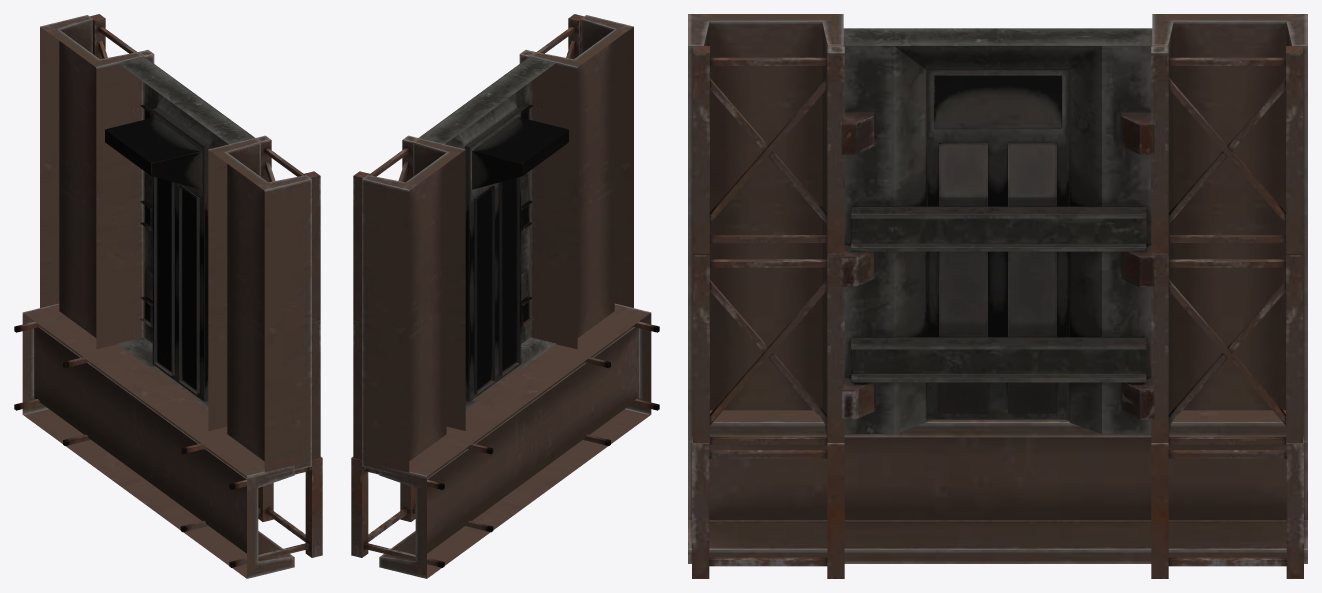
Rendered from caged-rack--1.gltf.
3 views of the same model, side by side, from view 1: azimuth 30°, elevation 25°; view 2: azimuth 150°, elevation 25°; view 3: azimuth 270°, elevation 25° (orthographic). The views are drawn at different scales.
Visible parts, largest first — view 1: lp.002; view 2: lp.002; view 3: lp.002.
Boxes of the visible parts, x1,y1,x2,y2 form: lp.002: [14, 14, 322, 578]; lp.002: [351, 14, 659, 578]; lp.002: [688, 14, 1307, 578].
Bounding box in the file's own units: 1.04 × 4 × 4.24.
Materials: 2 (2 with a texture image).
